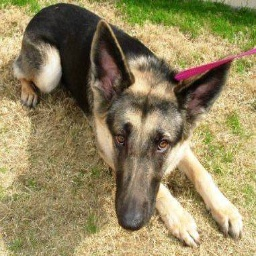dog: (10, 2, 247, 250)
